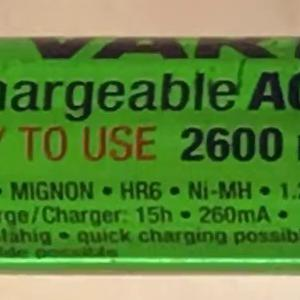keyword: (178, 170, 262, 210)
